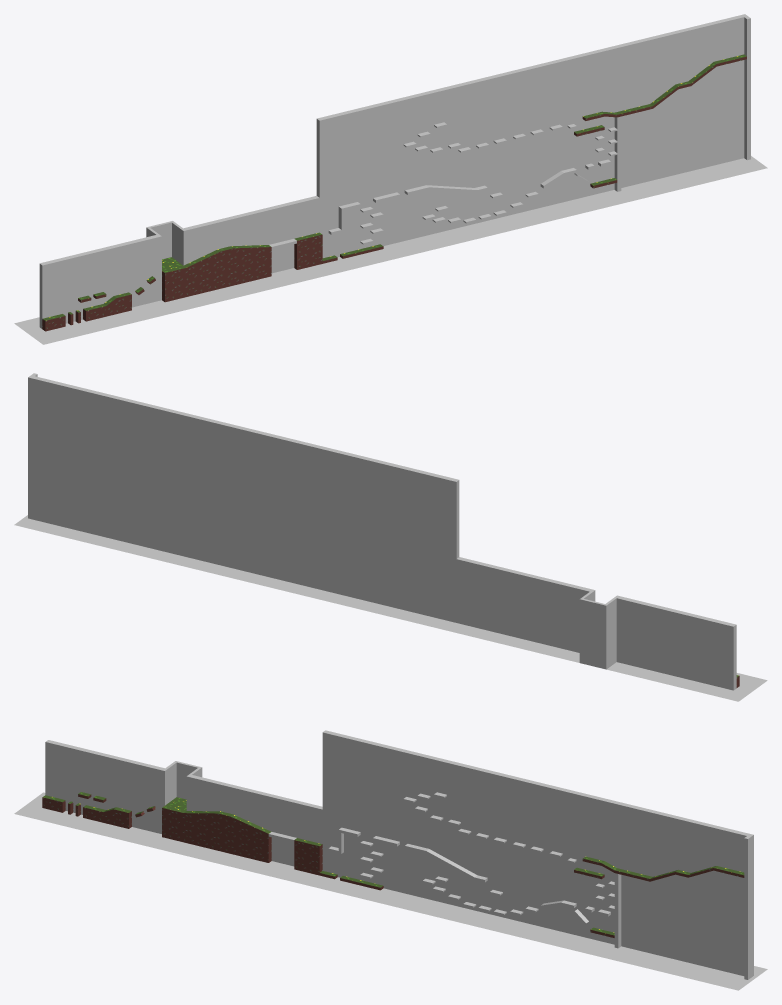
Rendered from map.obj.
The picture shows the model from 3 angles, top to bottom: view 1: azimuth 30°, elevation 25°; view 2: azimuth 150°, elevation 25°; view 3: azimuth 330°, elevation 25°; orthographic projection.
Parts seen in each view (by area): view 1: map; view 2: map; view 3: map.
Part boxes in pixels (left/top/right/bottom): map: left=14, top=14, right=767, bottom=344; map: left=14, top=373, right=767, bottom=701; map: left=14, top=730, right=767, bottom=990.
Bounding box in the file's own units: 570 × 106 × 40.
